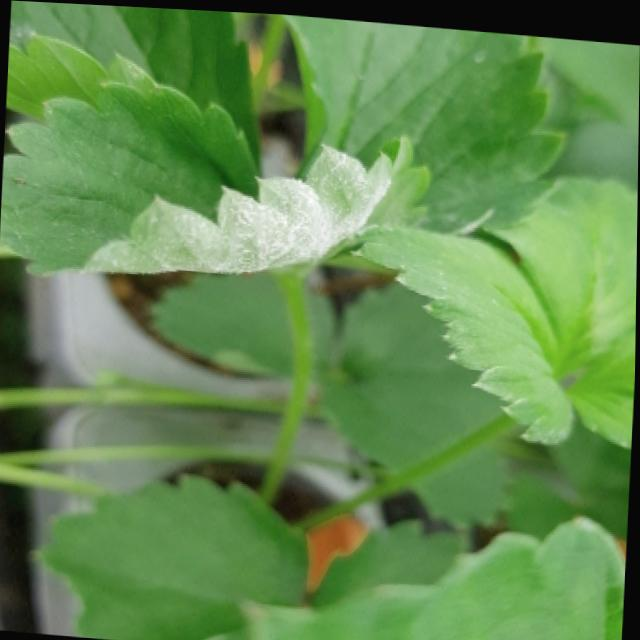Powdery Mildew Leaf: (0, 77, 398, 277)
